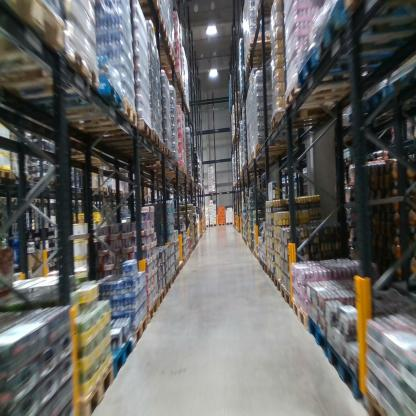pallet: (2, 40, 106, 105), (297, 35, 414, 86), (316, 3, 415, 60), (39, 70, 123, 119), (2, 2, 68, 62), (286, 72, 378, 109), (264, 99, 352, 134), (62, 91, 137, 132), (326, 333, 364, 402), (75, 359, 113, 415), (91, 125, 161, 150), (82, 119, 154, 140), (111, 331, 134, 378), (341, 3, 416, 17), (309, 312, 330, 362), (362, 382, 392, 414), (248, 28, 281, 56), (125, 314, 147, 352), (130, 154, 179, 171), (292, 296, 313, 334), (130, 142, 175, 159), (132, 1, 163, 25), (137, 20, 170, 40), (147, 36, 178, 53), (255, 140, 289, 155), (251, 148, 293, 160), (247, 155, 282, 169), (142, 296, 159, 323), (279, 285, 294, 310), (10, 170, 31, 187), (143, 141, 166, 155), (274, 273, 285, 293), (156, 286, 165, 309), (163, 278, 172, 299), (1, 167, 13, 182), (267, 268, 276, 285), (341, 153, 355, 163), (99, 184, 109, 195), (170, 270, 177, 285), (178, 259, 184, 276), (262, 263, 268, 279), (259, 255, 264, 268), (226, 219, 234, 227), (112, 185, 118, 195), (209, 222, 217, 229), (256, 252, 260, 265), (175, 267, 180, 277), (218, 221, 226, 227), (107, 186, 112, 195), (254, 249, 257, 259), (250, 248, 254, 255), (205, 223, 209, 229)
